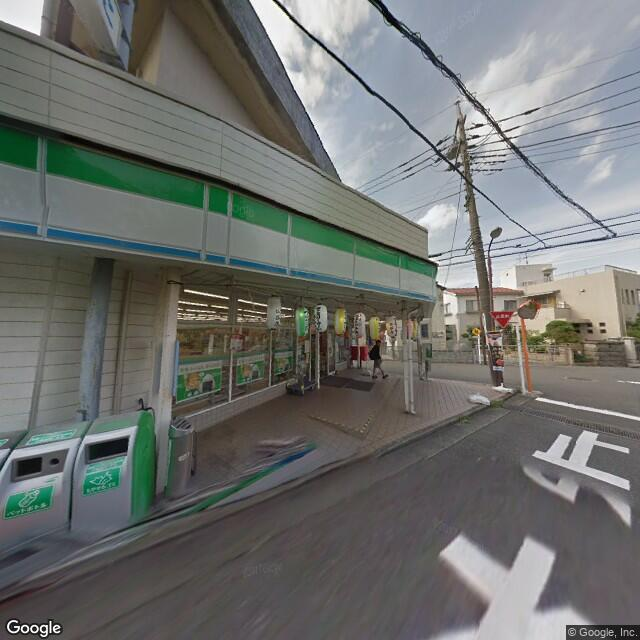family_mart: (3, 119, 438, 303)
